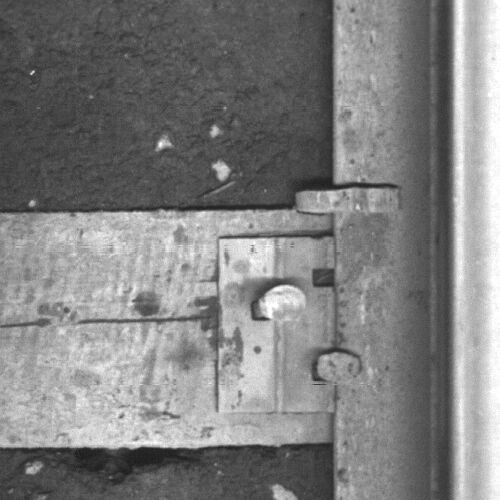crutch: (295, 185, 404, 213)
do: (218, 236, 364, 414)
hole_do: (304, 259, 347, 295)
rail: (449, 1, 500, 500)
tie_wood: (1, 209, 335, 443)
wood_crack: (1, 309, 217, 332)
